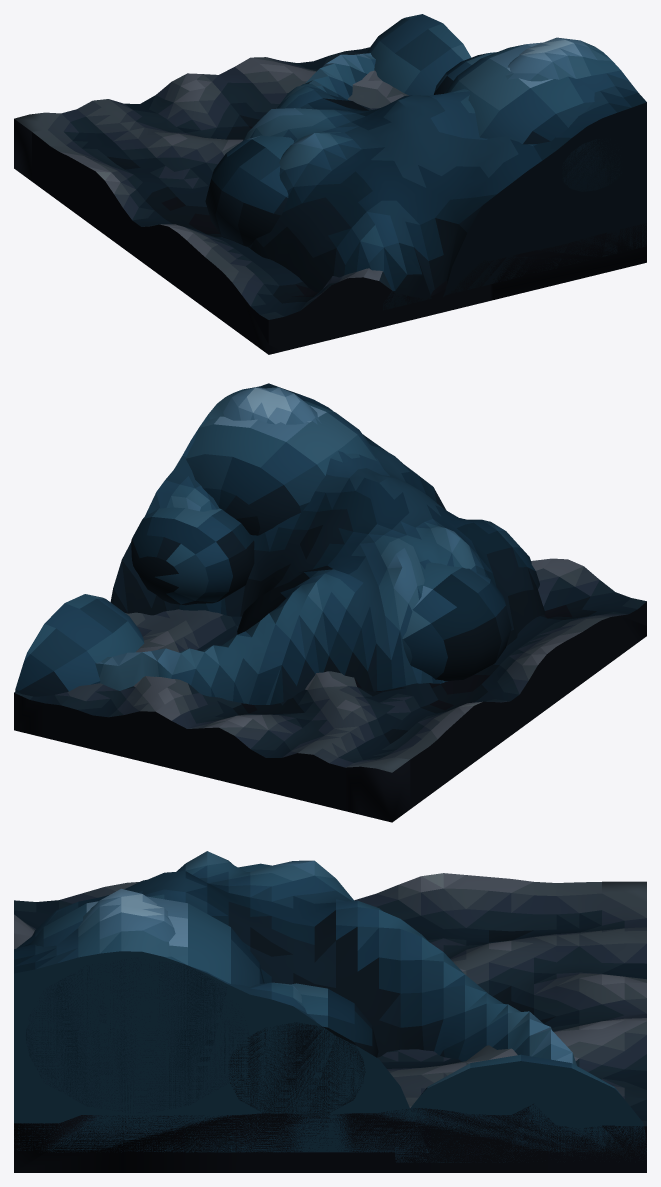
File: gyges_brood_tl.glb
The picture shows the model from 3 angles, top to bottom: view 1: azimuth 30°, elevation 25°; view 2: azimuth 150°, elevation 25°; view 3: azimuth 270°, elevation 25°; orthographic projection. The views are drawn at different scales.
Parts seen in each view (by area): view 1: gyges_brood_tl_brood_body, gyges_brood_tl_brood_wall, gyges_brood_tl_brood_sac3, gyges_brood_tl_brood_sac1, gyges_brood_tl_brood_sac0, gyges_brood_tl_brood_sac2; view 2: gyges_brood_tl_brood_wall, gyges_brood_tl_brood_body, gyges_brood_tl_brood_sac3, gyges_brood_tl_brood_sac2, gyges_brood_tl_brood_sac1, gyges_brood_tl_brood_sac0; view 3: gyges_brood_tl_brood_body, gyges_brood_tl_brood_wall, gyges_brood_tl_brood_sac3, gyges_brood_tl_brood_sac0, gyges_brood_tl_brood_sac2.
Part boxes in pixels (box(x1,y1,x2,y2)): gyges_brood_tl_brood_body: box(243, 37, 646, 310); gyges_brood_tl_brood_wall: box(14, 47, 646, 354); gyges_brood_tl_brood_sac3: box(444, 42, 621, 191); gyges_brood_tl_brood_sac1: box(205, 135, 293, 246); gyges_brood_tl_brood_sac0: box(365, 14, 471, 95); gyges_brood_tl_brood_sac2: box(434, 52, 496, 94); gyges_brood_tl_brood_wall: box(14, 558, 646, 822); gyges_brood_tl_brood_body: box(95, 383, 545, 704); gyges_brood_tl_brood_sac3: box(185, 400, 377, 535); gyges_brood_tl_brood_sac2: box(131, 507, 254, 605); gyges_brood_tl_brood_sac1: box(402, 562, 511, 680); gyges_brood_tl_brood_sac0: box(15, 594, 144, 696); gyges_brood_tl_brood_body: box(14, 851, 605, 1152); gyges_brood_tl_brood_wall: box(14, 873, 646, 1172); gyges_brood_tl_brood_sac3: box(26, 896, 264, 1113); gyges_brood_tl_brood_sac0: box(395, 1054, 646, 1162); gyges_brood_tl_brood_sac2: box(228, 983, 378, 1119).
Bounding box in the file's own units: 23.98 × 11.83 × 27.98.
